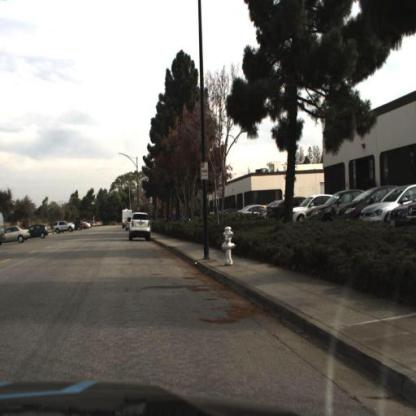car: (305, 190, 349, 222), (291, 193, 332, 223), (294, 193, 325, 226), (264, 198, 299, 221), (128, 213, 153, 242), (4, 225, 34, 247), (27, 221, 52, 244), (51, 219, 77, 237)
